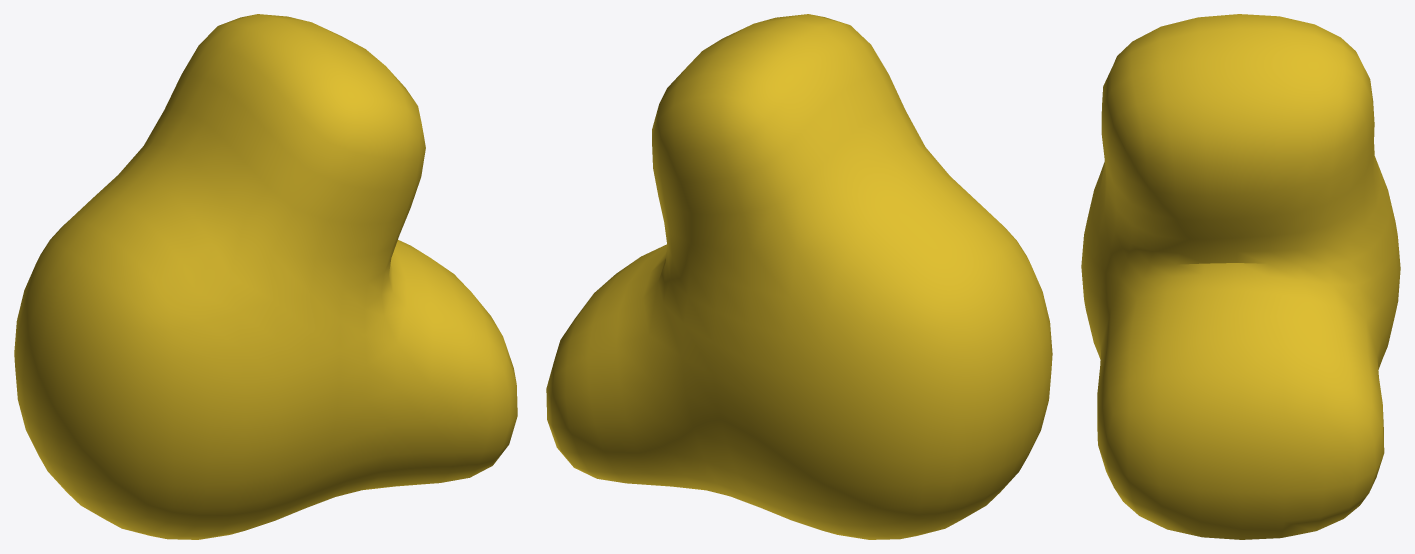
The model's file is PopCorn.fbx.
3 renders of one model, left to right at view 1: azimuth 30°, elevation 25°; view 2: azimuth 150°, elevation 25°; view 3: azimuth 270°, elevation 25°, orthographic. The views are drawn at different scales.
Parts seen in each view (by area): view 1: PopCorn; view 2: PopCorn; view 3: PopCorn.
Boxes of the visible parts, x1,y1,x2,y2 form: PopCorn: (14, 14, 517, 539); PopCorn: (546, 14, 1052, 539); PopCorn: (1081, 14, 1400, 539).
Size of the model in its own units: 194 by 194 by 123.
